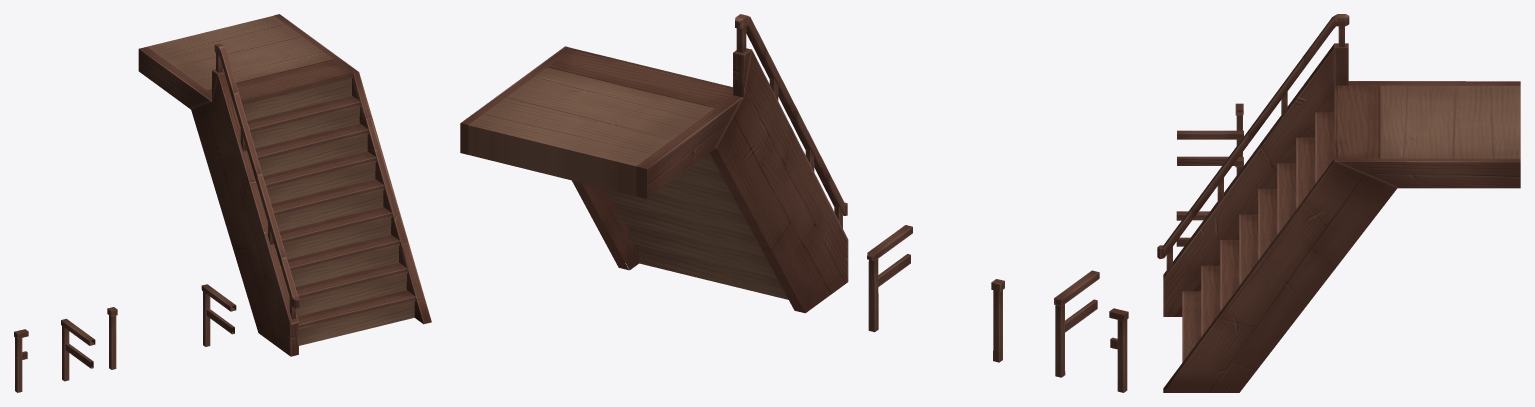
The model's file is Barandilla_Escalera_Compfbx.fbx.
The picture shows the model from 3 angles, left to right: view 1: azimuth 30°, elevation 25°; view 2: azimuth 150°, elevation 25°; view 3: azimuth 270°, elevation 25°; orthographic projection. The views are drawn at different scales.
Visible parts, largest first — view 1: Escalera, Borde, Normal_Ver01, Esquina, Esquina.001; view 2: Escalera, Borde, Normal_Ver01, Esquina, Esquina.001; view 3: Escalera, Normal_Ver01, Borde.
Boxes of the visible parts, bbox=[...] form: Escalera: bbox=[138, 14, 431, 356]; Borde: bbox=[201, 284, 236, 346]; Normal_Ver01: bbox=[61, 318, 95, 381]; Esquina: bbox=[14, 329, 28, 392]; Esquina.001: bbox=[107, 307, 117, 369]; Escalera: bbox=[460, 14, 848, 313]; Borde: bbox=[867, 225, 912, 332]; Normal_Ver01: bbox=[1054, 270, 1099, 377]; Esquina: bbox=[1109, 308, 1128, 392]; Esquina.001: bbox=[991, 279, 1004, 362]; Escalera: bbox=[1157, 14, 1520, 392]; Normal_Ver01: bbox=[1177, 130, 1243, 165]; Borde: bbox=[1176, 211, 1209, 246].
Bounding box in the file's own units: 816 × 518 × 570.
Materials: 1 (1 with a texture image).
